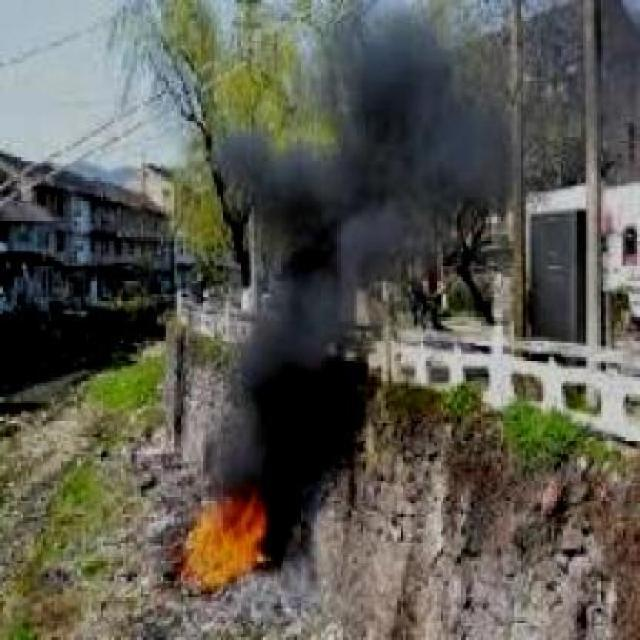Fire: (181, 492, 269, 588)
Smoke: (208, 0, 512, 486)
